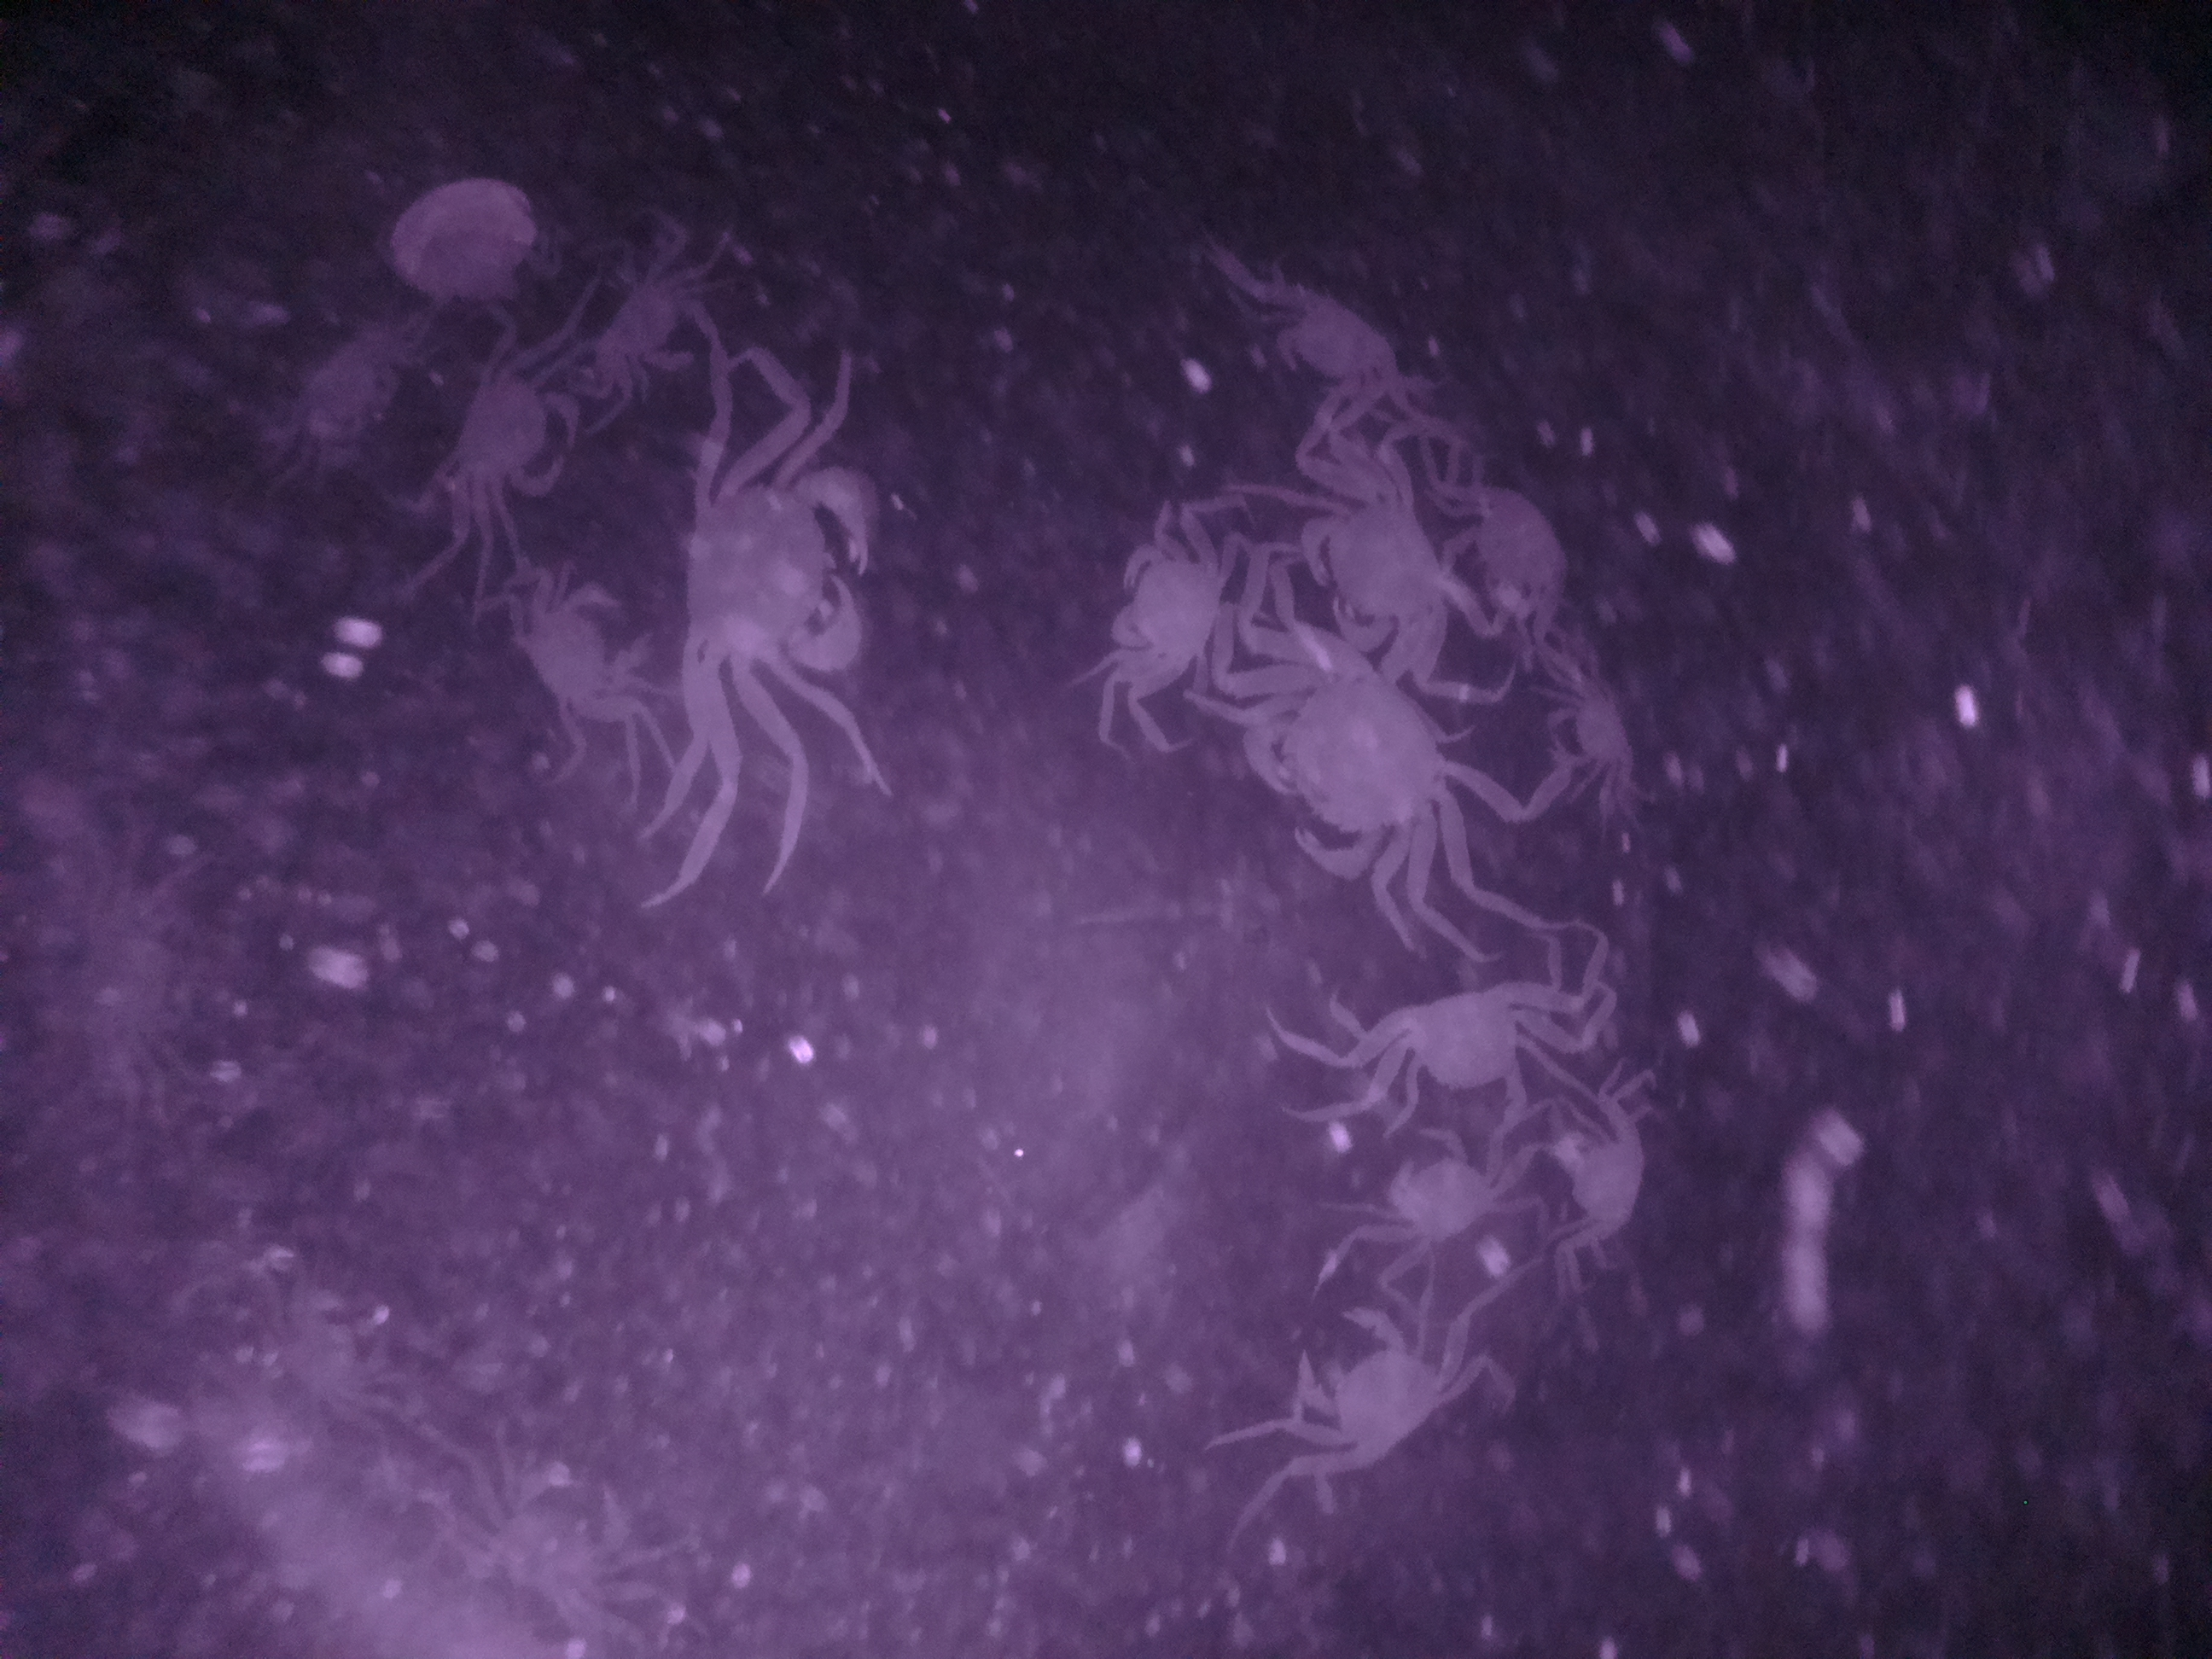Crab: (674, 439, 899, 716), (1221, 641, 1465, 884), (1266, 455, 1463, 678), (1278, 1279, 1467, 1495), (1343, 962, 1561, 1131), (1082, 497, 1233, 718), (435, 354, 587, 516), (1254, 265, 1423, 410), (1538, 1100, 1688, 1260), (507, 561, 655, 718), (1371, 1126, 1515, 1272), (1522, 662, 1651, 802)
